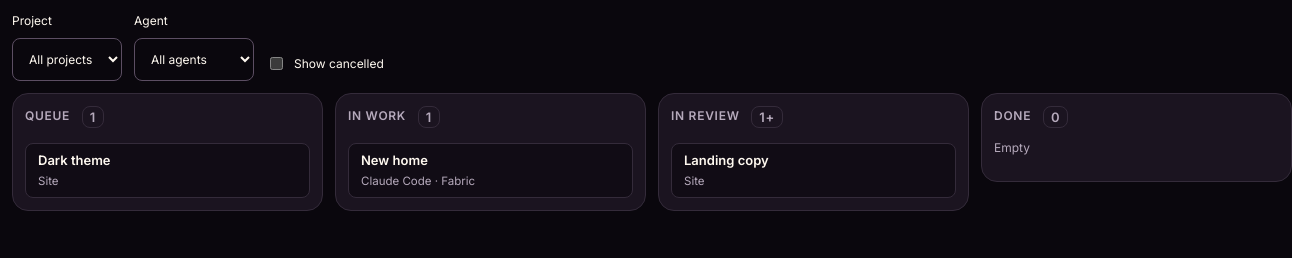
Test: the Board's agent filter, «Отменено» and remembered filters (CO-401) › filters by agent, shows cancelled tasks as a fifth column only when asked, and keeps every choice
Expected: the text "New home" is shown, 361,152 -> 428,168
Expected: the text "Old idea" is not shown
Step 1. Select "Claude Code" in the dropdown labelled "Agent" → {"x": 194, "y": 60}, box 134,38 -> 254,81
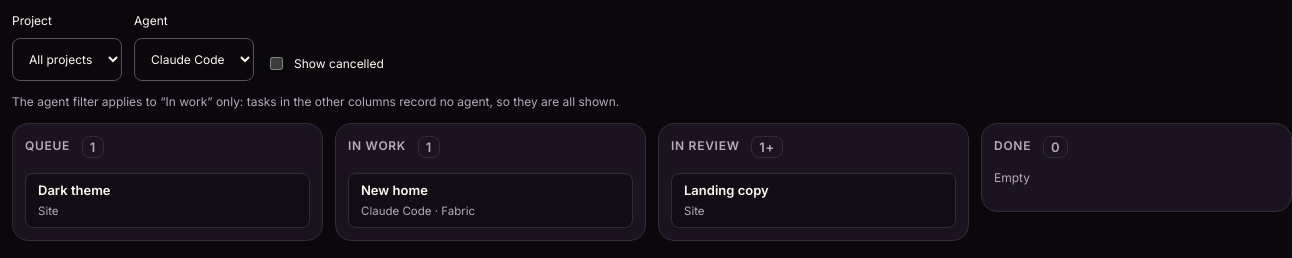
Expected: the text "Dark theme" is shown, 38,182 -> 111,198
Now the text "The agent filter applies to “In work” only: tasks in the other columns record no agent, so they are all shown." is shown, box 12,94 -> 619,109
Step 2. Select "All agents" in the dropdown labelled "Agent" → {"x": 194, "y": 60}, box 134,38 -> 254,81
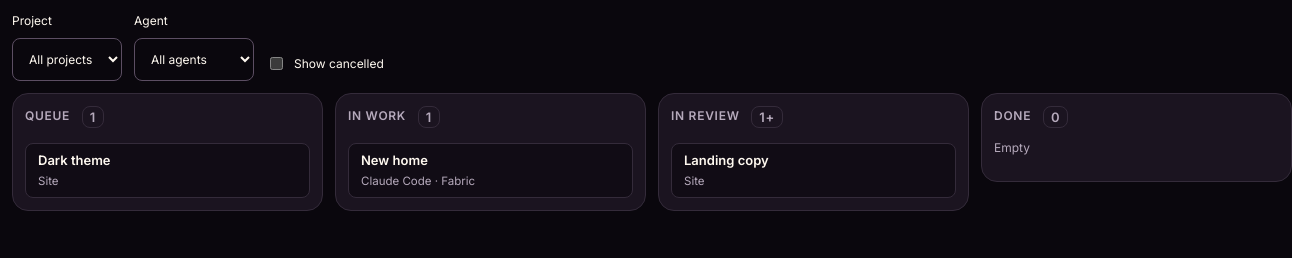
Now the text "The agent filter applies to “In work” only: tasks in the other columns record no agent, so they are all shown." is gone
Step 3. Click the checkbox labelled "Show cancelled" → {"x": 276, "y": 64}, box 270,57 -> 283,70
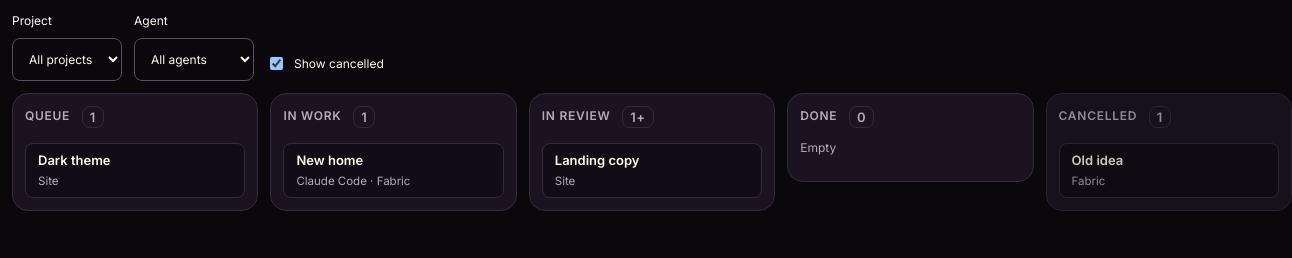
Now the element "Cancelled" shows "Old idea", box 1059,143 -> 1279,198
